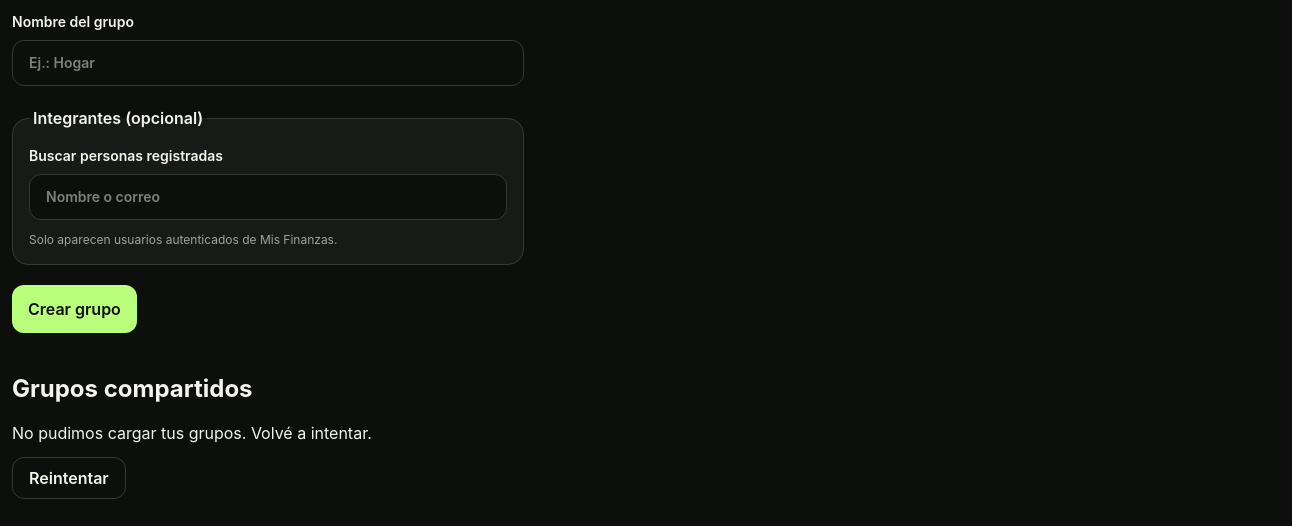
Test case: GroupsContent › retries the query when requested
Click the button "Reintentar".
click(69, 478)  # box x1=12 y1=457 x2=126 y2=499
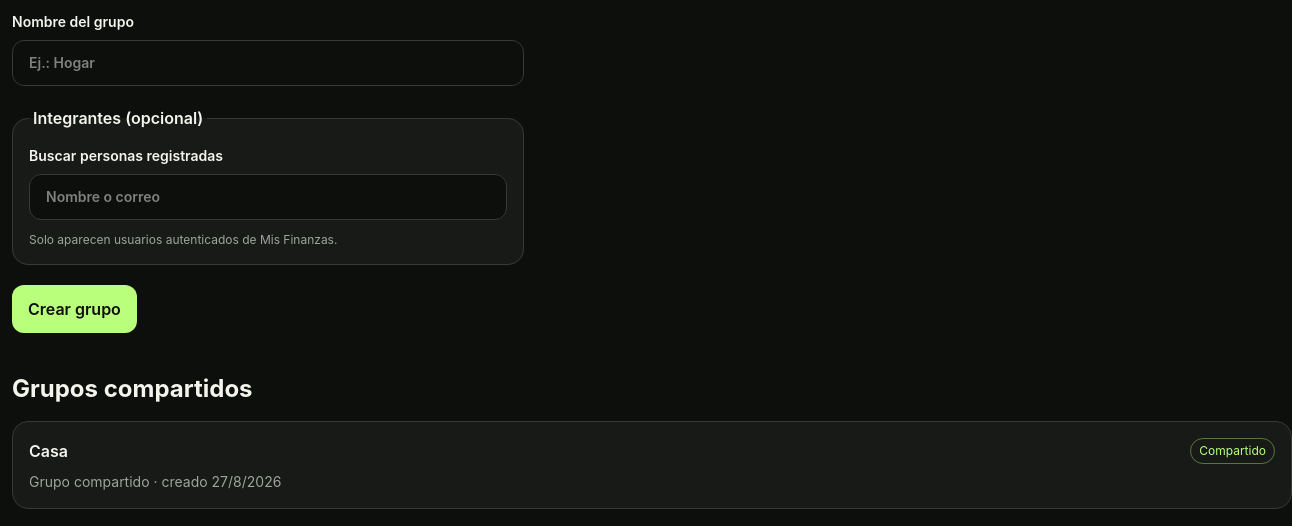
Check: the text "Casa" is shown, box x1=29 y1=439 x2=68 y2=463
